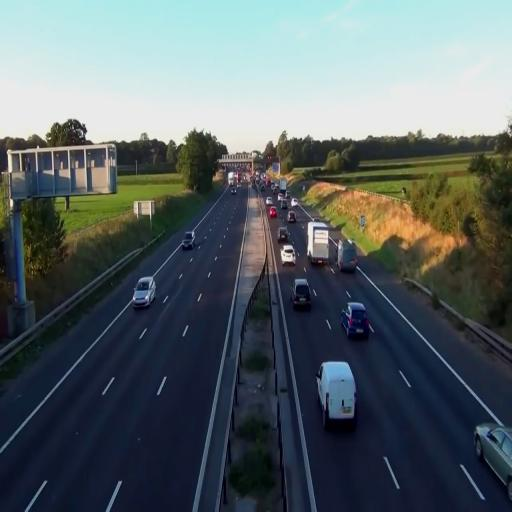vehicle: (473, 419, 512, 502), (317, 360, 356, 430), (341, 302, 370, 339), (308, 222, 330, 268), (308, 222, 330, 267), (132, 276, 156, 309), (292, 278, 312, 310), (281, 244, 297, 265), (182, 232, 194, 249)
